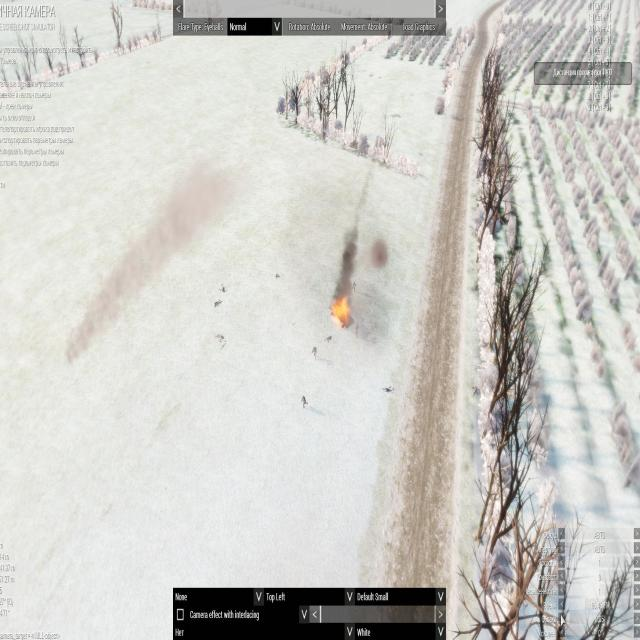infantry: (380, 375, 396, 402), (294, 390, 312, 413), (306, 338, 319, 368), (214, 325, 227, 354), (323, 329, 335, 351), (208, 295, 223, 311), (349, 279, 362, 296), (470, 381, 480, 402), (353, 319, 362, 342), (214, 280, 228, 294), (273, 270, 286, 285)
vehicle: (329, 294, 355, 334)
